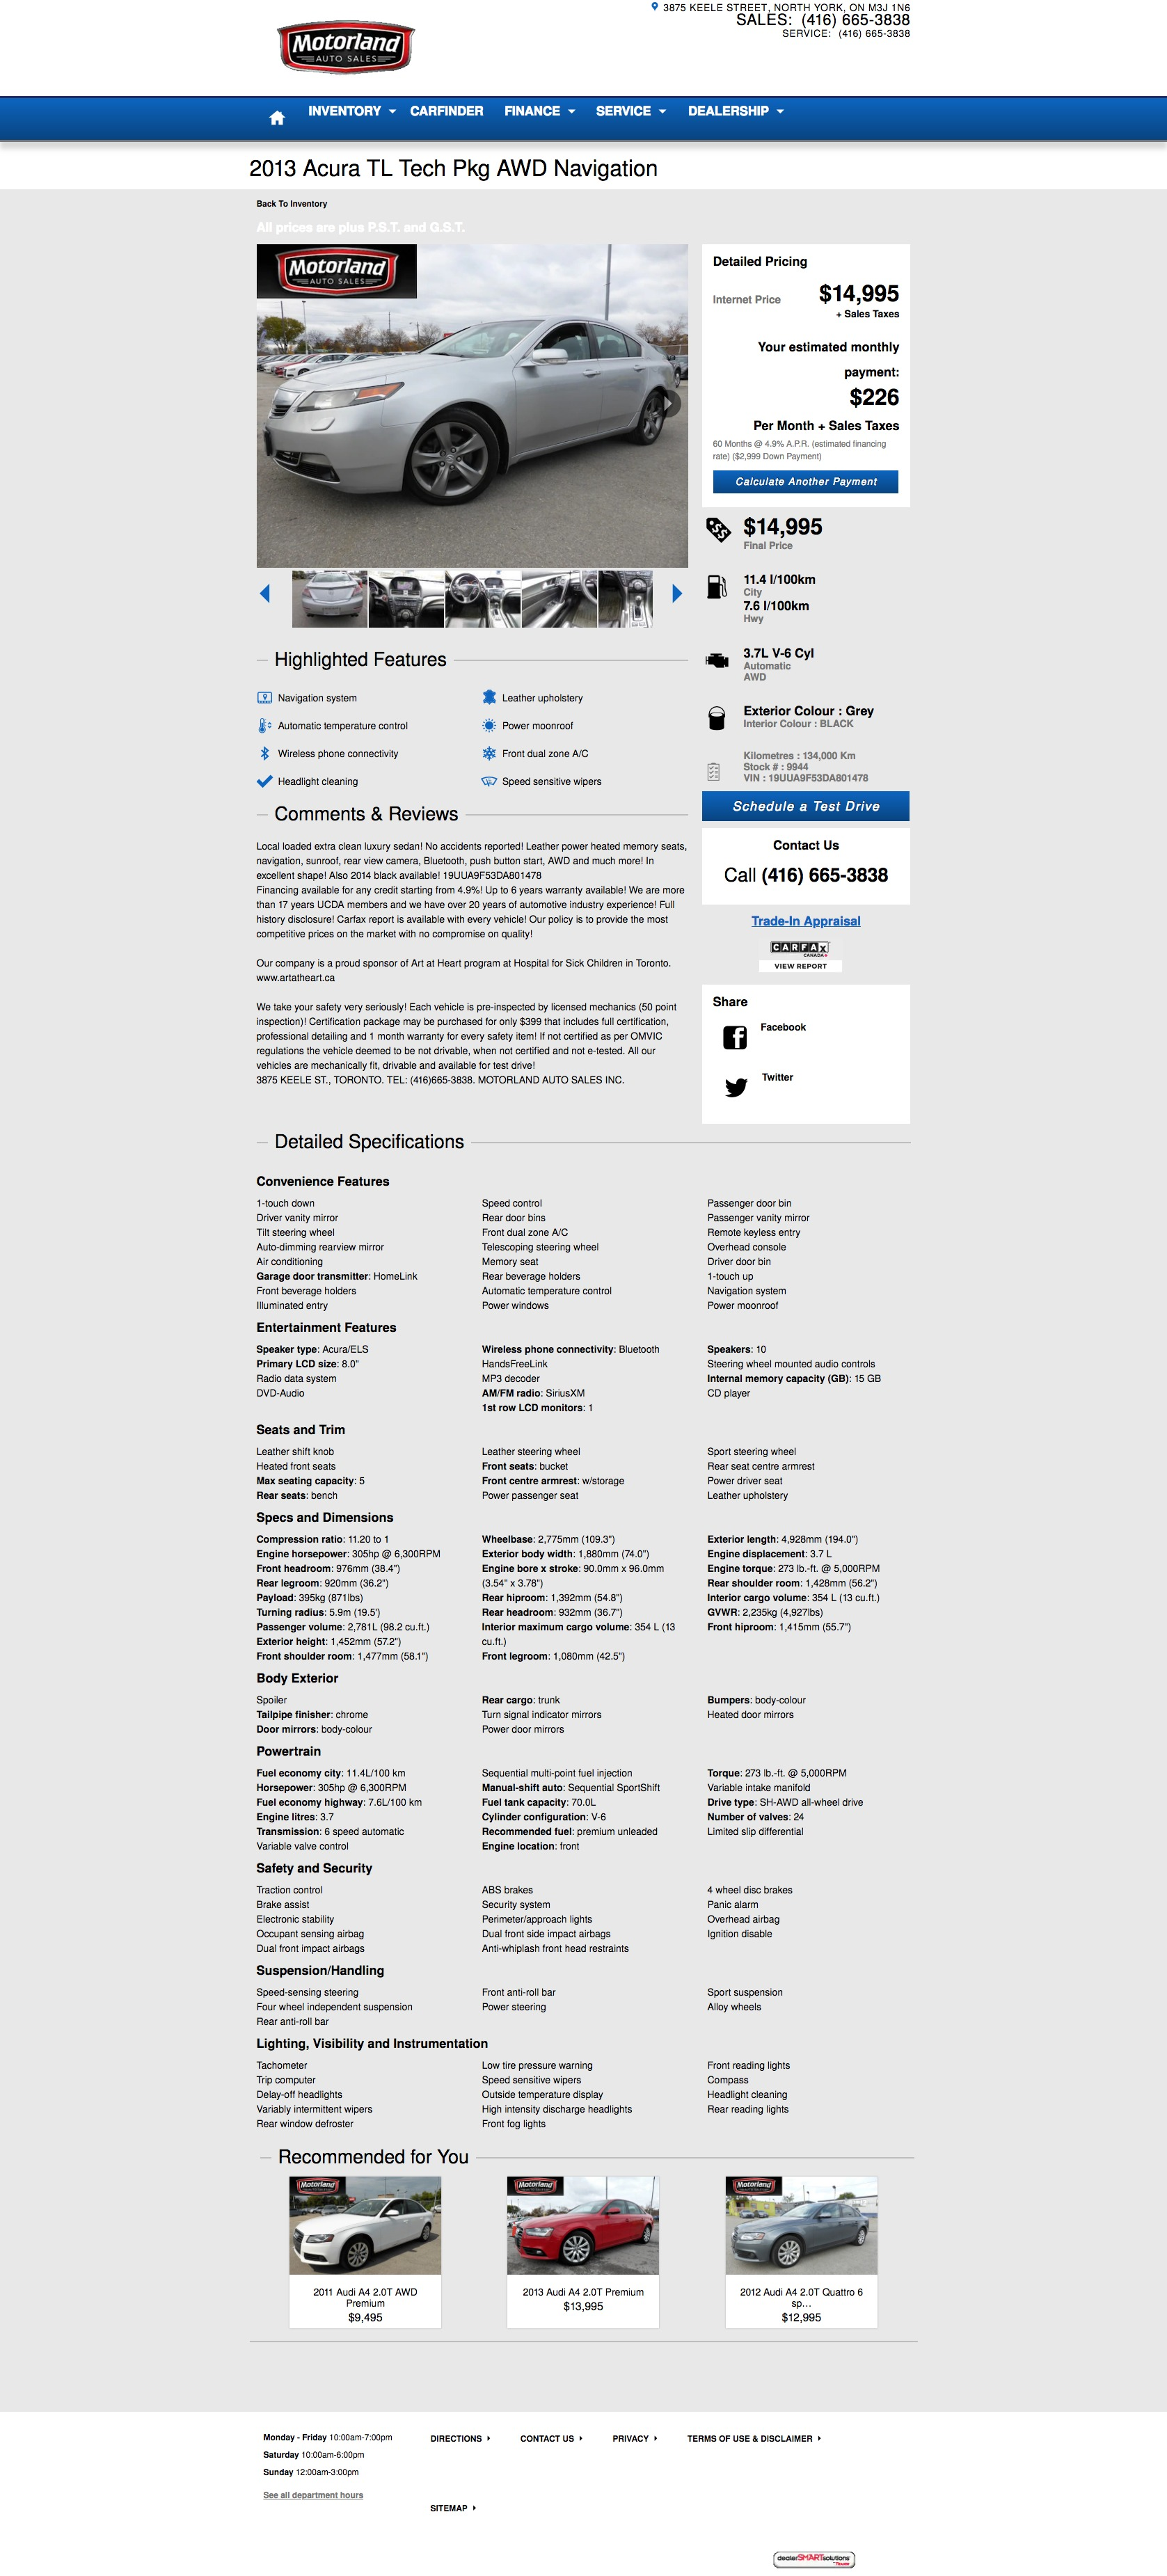car: (671, 583, 685, 605)
